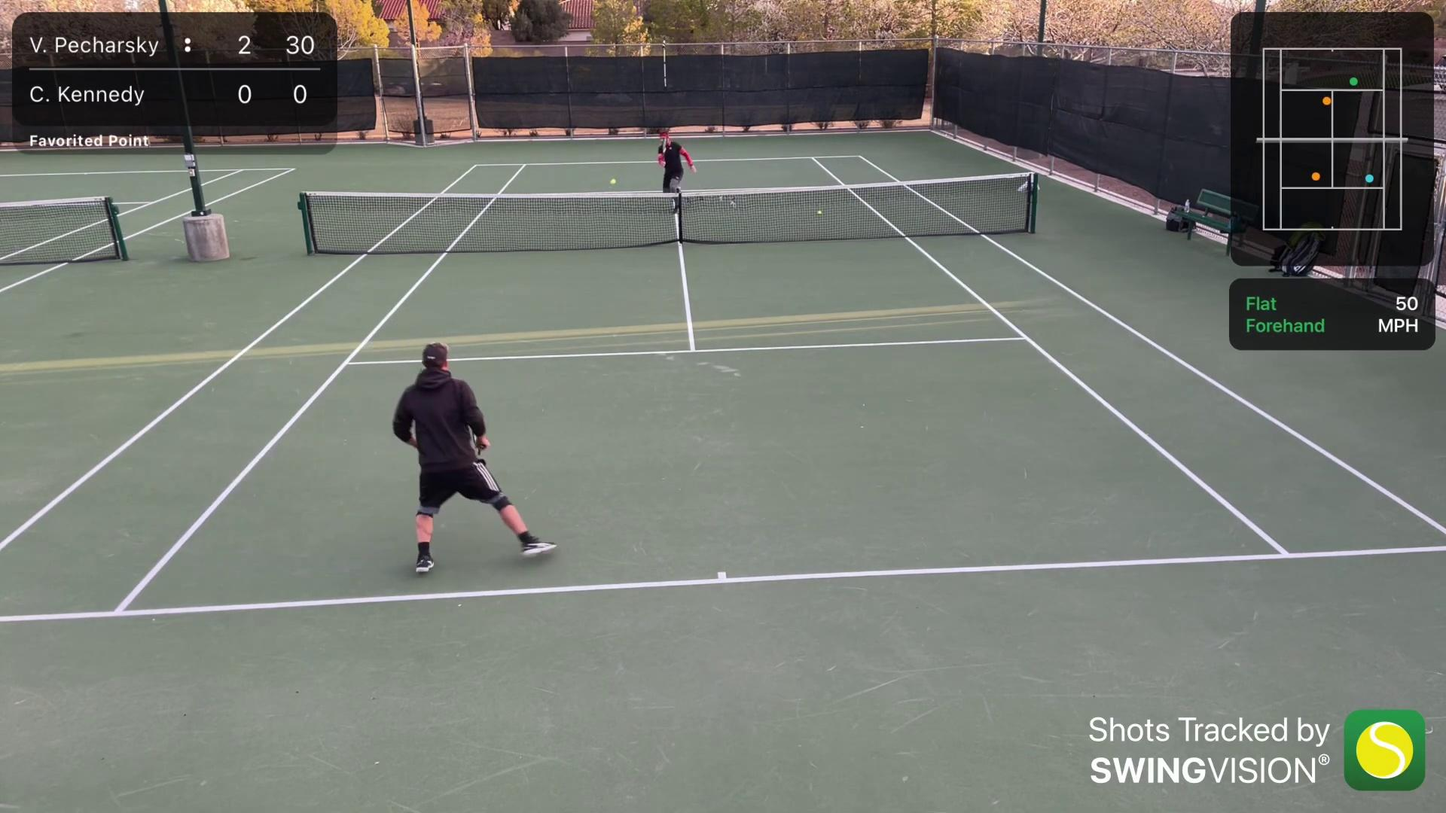ball: (816, 209, 824, 216), (609, 178, 616, 185)
